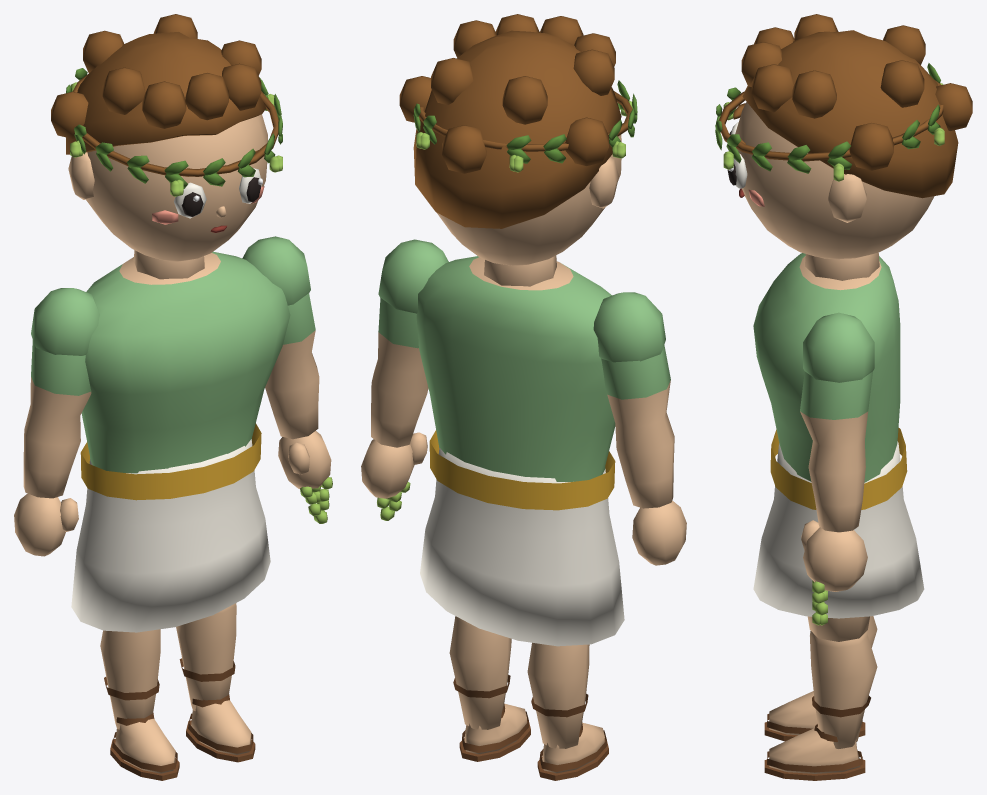
The model's file is winzer.glb.
The picture shows the model from 3 angles, left to right: view 1: azimuth 30°, elevation 25°; view 2: azimuth 150°, elevation 25°; view 3: azimuth 270°, elevation 25°; orthographic projection. The views are drawn at different scales.
Visible parts, largest first — view 1: rumpf, huefte, haare, kopf, armL, armR, knieL, knieR, kopfschmuck, itemR, augeL, augeR; view 2: rumpf, haare, huefte, armL, armR, kopf, knieL, knieR, kopfschmuck; view 3: haare, rumpf, armR, kopf, huefte, knieR, kopfschmuck, knieL, beinR, itemR, augeR.
Part boxes in pixels (x1,y1,x2,y2): rumpf: [80, 251, 290, 500]; huefte: [71, 439, 270, 632]; haare: [51, 14, 266, 154]; kopf: [68, 114, 267, 279]; armL: [14, 288, 99, 556]; armR: [242, 236, 331, 488]; knieL: [100, 629, 179, 780]; knieR: [176, 603, 255, 762]; kopfschmuck: [66, 68, 282, 196]; itemR: [300, 477, 332, 523]; augeL: [174, 182, 206, 218]; augeR: [239, 168, 262, 203]; rumpf: [416, 256, 615, 510]; haare: [399, 14, 621, 228]; huefte: [420, 447, 624, 646]; armL: [593, 292, 686, 565]; armR: [361, 239, 448, 498]; kopf: [436, 135, 621, 286]; knieL: [527, 642, 608, 780]; knieR: [449, 616, 530, 761]; kopfschmuck: [413, 80, 637, 172]; haare: [741, 14, 972, 198]; rumpf: [753, 253, 907, 509]; armR: [800, 312, 874, 591]; kopf: [735, 102, 934, 280]; huefte: [753, 441, 924, 618]; knieR: [764, 631, 877, 780]; kopfschmuck: [715, 63, 944, 181]; knieL: [764, 616, 877, 741]; beinR: [807, 616, 869, 641]; itemR: [812, 580, 827, 625]; augeR: [727, 153, 747, 188].
Size of the model in its own units: 1.05 by 2.3 by 0.7535.
